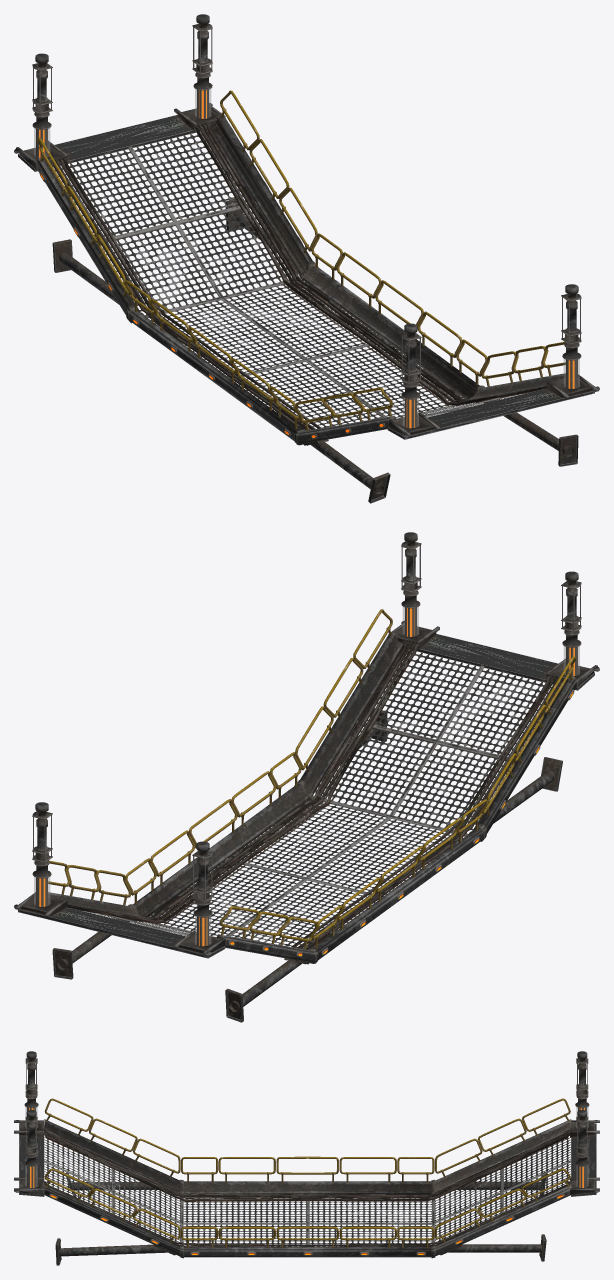
File: yberpunk_bridge.glb
3 renders of one model, top to bottom at view 1: azimuth 30°, elevation 25°; view 2: azimuth 150°, elevation 25°; view 3: azimuth 270°, elevation 25°, orthographic. The views are drawn at different scales.
Visible parts, largest first — view 1: bridge_bridge_0, bridge_glass_0, bridge_emission_0; view 2: bridge_bridge_0, bridge_glass_0, bridge_emission_0; view 3: bridge_bridge_0, bridge_glass_0, bridge_emission_0.
Boxes of the visible parts, left/top/right/bottom form: bridge_bridge_0: left=14, top=14, right=599, bottom=503; bridge_glass_0: left=34, top=89, right=579, bottom=427; bridge_emission_0: left=39, top=90, right=574, bottom=437; bridge_bridge_0: left=14, top=532, right=599, bottom=1022; bridge_glass_0: left=34, top=607, right=579, bottom=945; bridge_emission_0: left=39, top=608, right=574, bottom=955; bridge_bridge_0: left=14, top=1051, right=599, bottom=1265; bridge_glass_0: left=25, top=1107, right=588, bottom=1187; bridge_emission_0: left=29, top=1108, right=584, bottom=1254.
Size of the model in its own units: 17.76 by 16.43 by 59.75.
3 materials, 1 textured.
